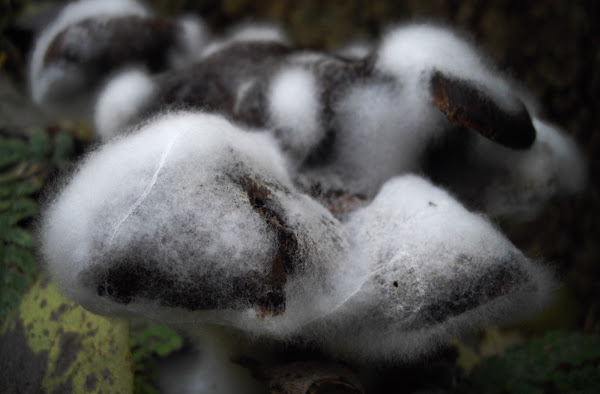Mucor: (263, 57, 499, 190), (293, 195, 487, 330), (44, 189, 175, 289), (135, 116, 215, 165)
